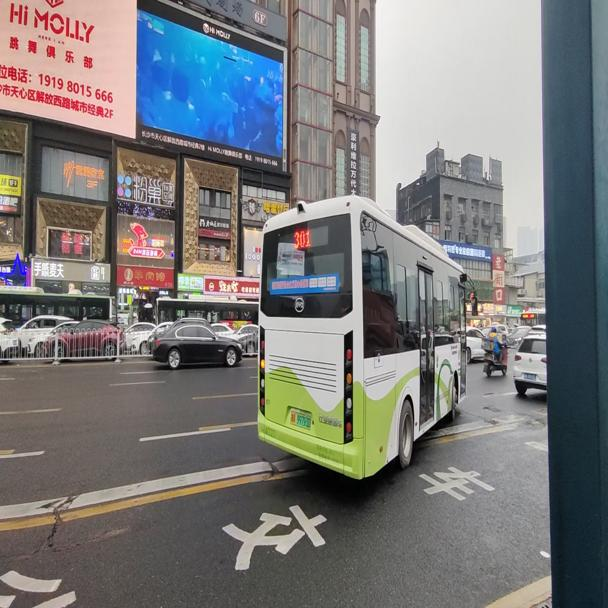bus: (256, 191, 478, 484), (519, 311, 545, 325)
screen: (293, 228, 309, 248)
